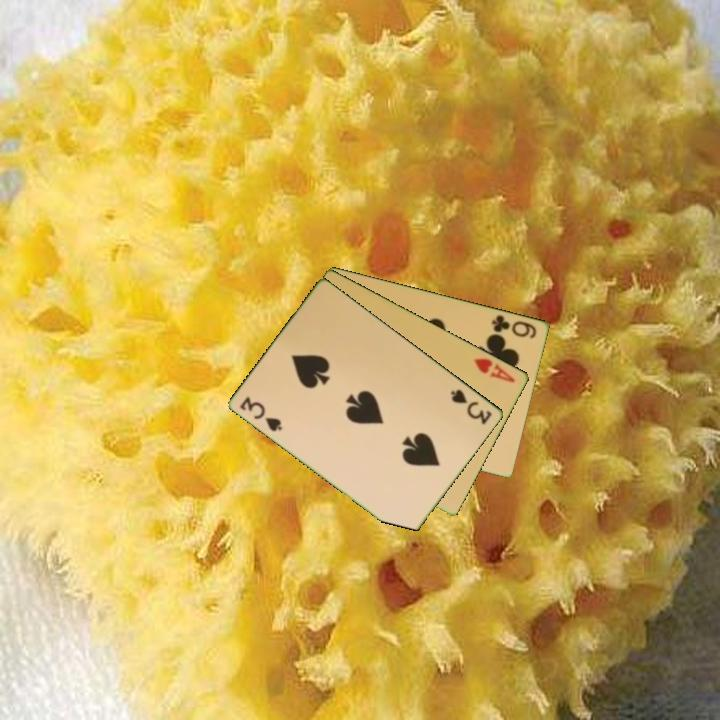3s: (447, 385, 495, 428), (237, 393, 286, 435)
6c: (488, 311, 540, 341)
Ah: (470, 354, 518, 385)
